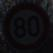Speed Limit -80-: (0, 0, 52, 52)
